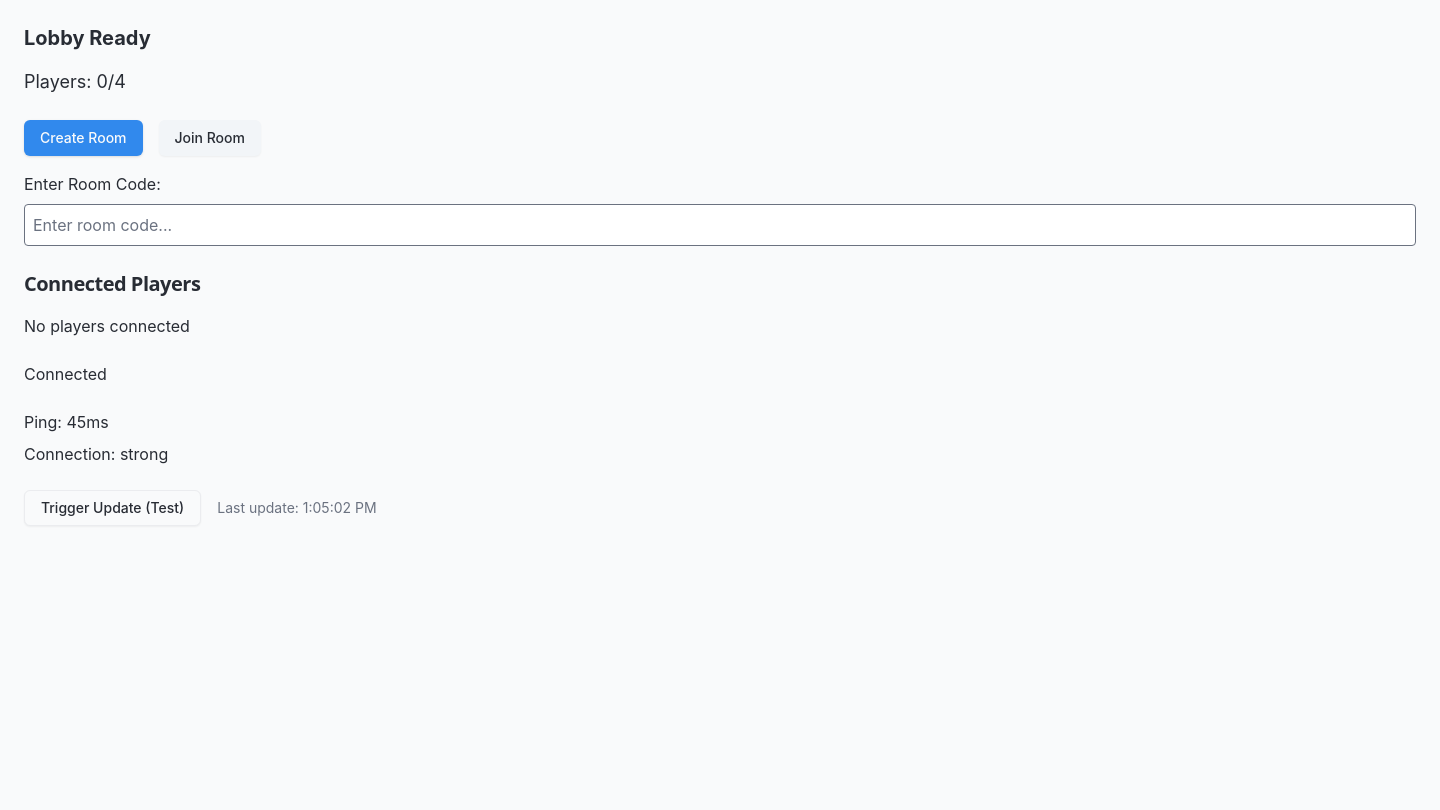
Test: Multiplayer Integration Tests (TDD CYCLE 4 GREEN Phase) › Phase GREEN - Tests qui doivent maintenant passer › should update player count when players join
expect the text with test id "player-count" reads "Players: 0/4": met, box [24, 71, 126, 92]
// Créer une room
Click the button with test id "create-room-button": (83, 138) [24, 120, 142, 156]
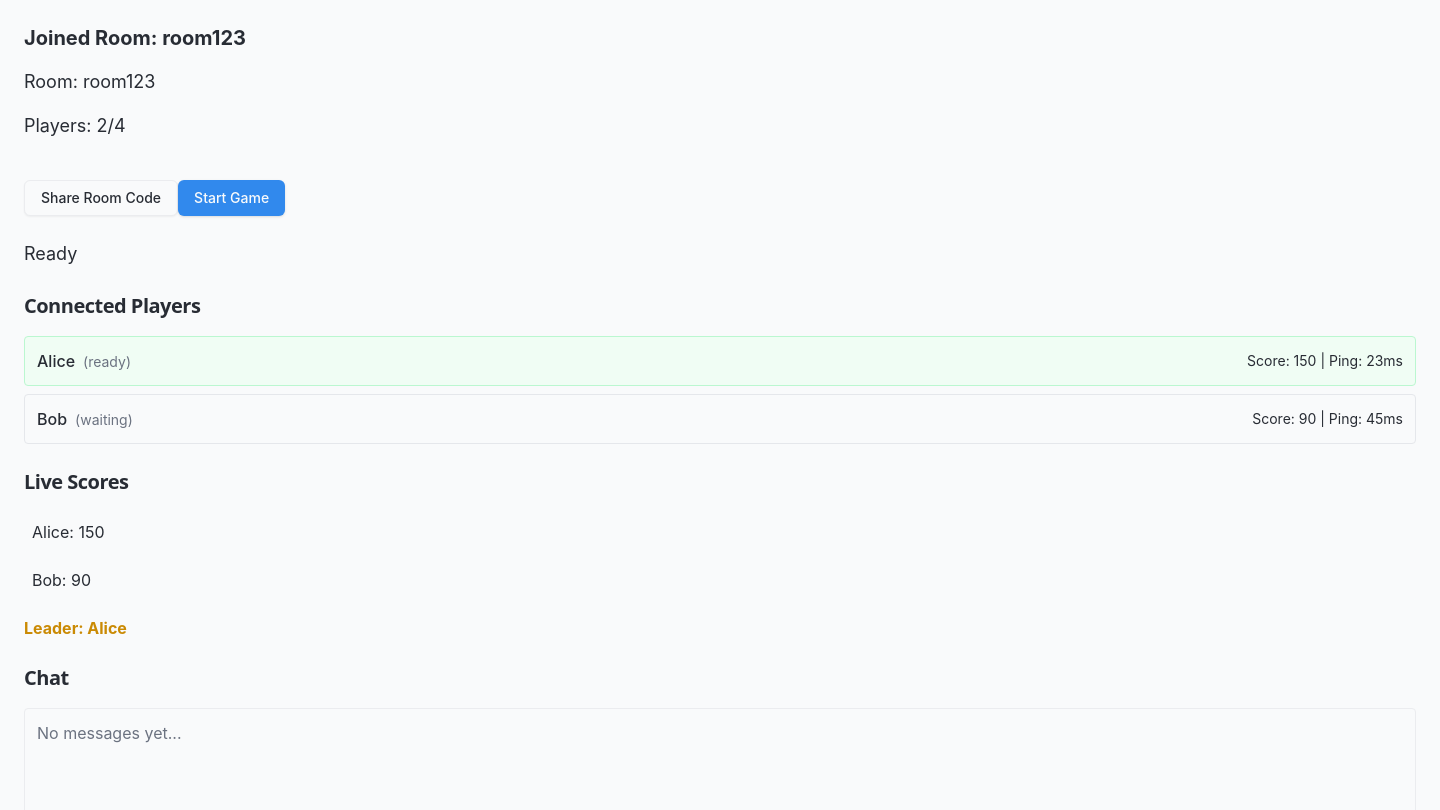
expect the text with test id "player-count" reads "Players: 2/4": met, box [24, 115, 126, 136]
